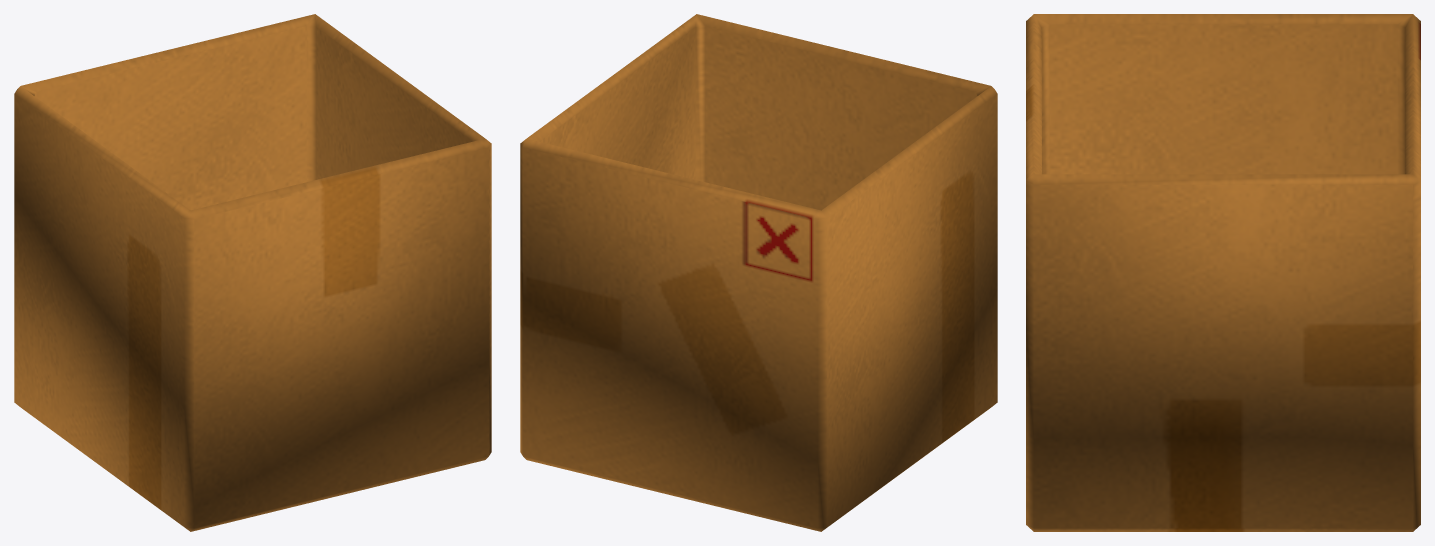
The model's file is o3_scatola_cartone.glb.
The picture shows the model from 3 angles, left to right: view 1: azimuth 30°, elevation 25°; view 2: azimuth 150°, elevation 25°; view 3: azimuth 270°, elevation 25°; orthographic projection. The views are drawn at different scales.
Visible parts, largest first — view 1: sb_modello; view 2: sb_modello; view 3: sb_modello.
Part boxes in pixels (x1,y1,x2,y2): sb_modello: (14, 14, 491, 531); sb_modello: (520, 14, 997, 531); sb_modello: (1026, 14, 1420, 531).
Bounding box in the file's own units: 0.4 × 0.4 × 0.4.
1 material, 1 textured.
